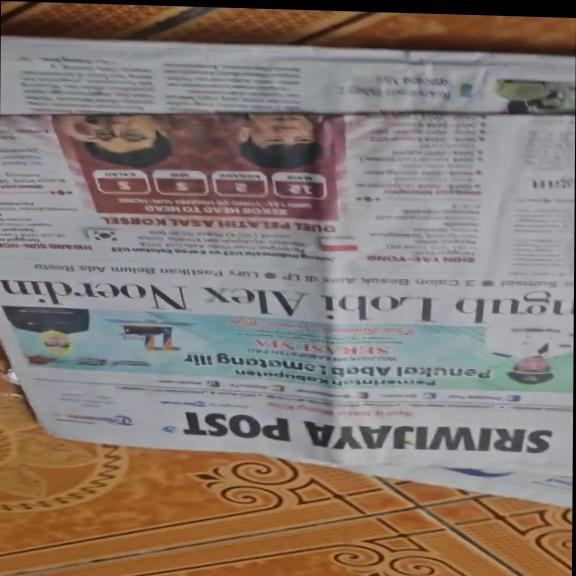Kertas: (37, 39, 568, 424)
